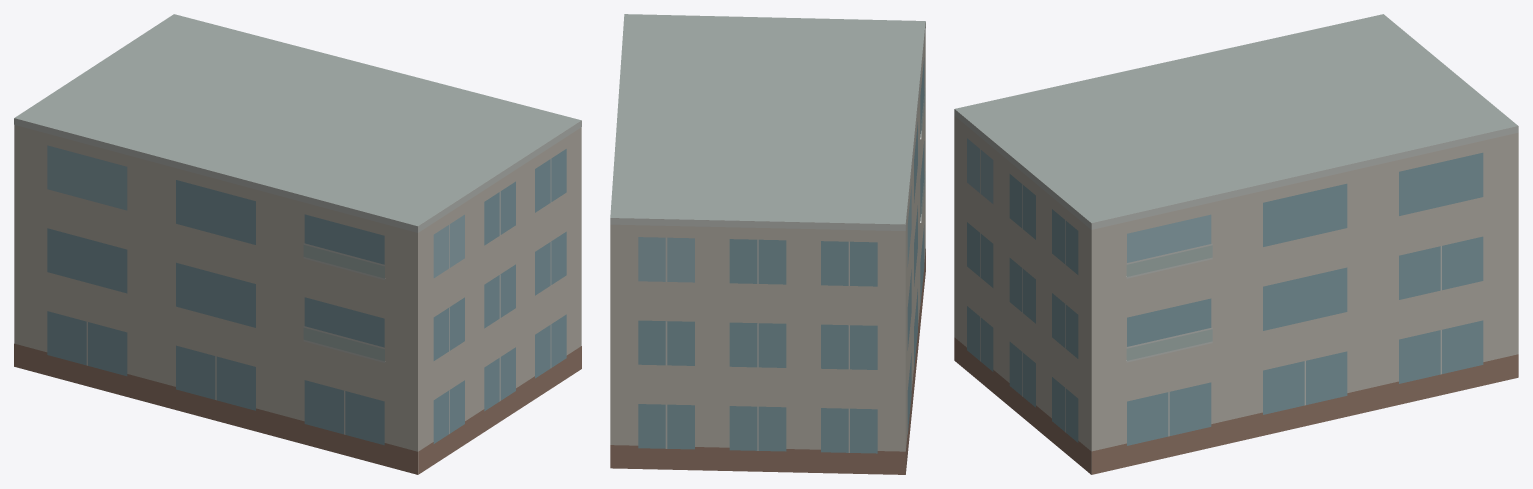
The model's file is survey-upis-32805419.glb.
3 renders of one model, left to right at view 1: azimuth 30°, elevation 25°; view 2: azimuth 150°, elevation 25°; view 3: azimuth 270°, elevation 25°, orthographic.
Parts seen in each view (by area): view 1: survey-upis-32805419.tmp; view 2: survey-upis-32805419.tmp; view 3: survey-upis-32805419.tmp.
Boxes of the visible parts, left/top/right/bottom form: survey-upis-32805419.tmp: left=14, top=14, right=581, bottom=474; survey-upis-32805419.tmp: left=610, top=14, right=925, bottom=474; survey-upis-32805419.tmp: left=954, top=14, right=1518, bottom=474.
Size of the model in its own units: 16.32 by 9.15 by 18.6.
